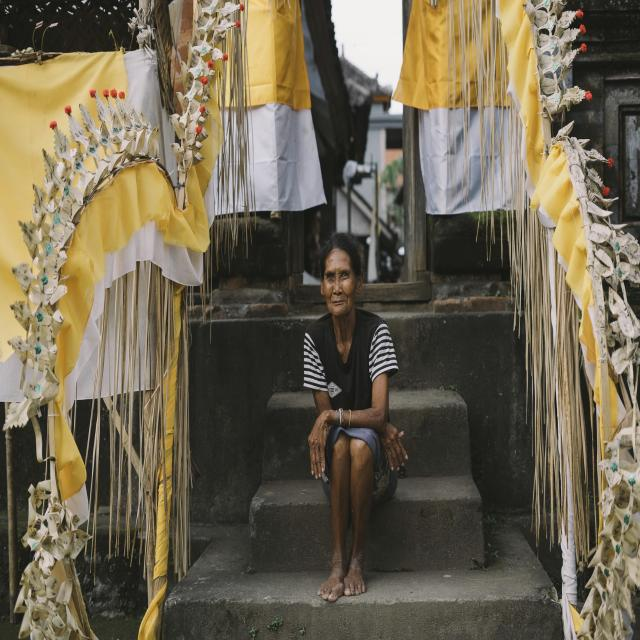adult: (305, 233, 410, 603)
